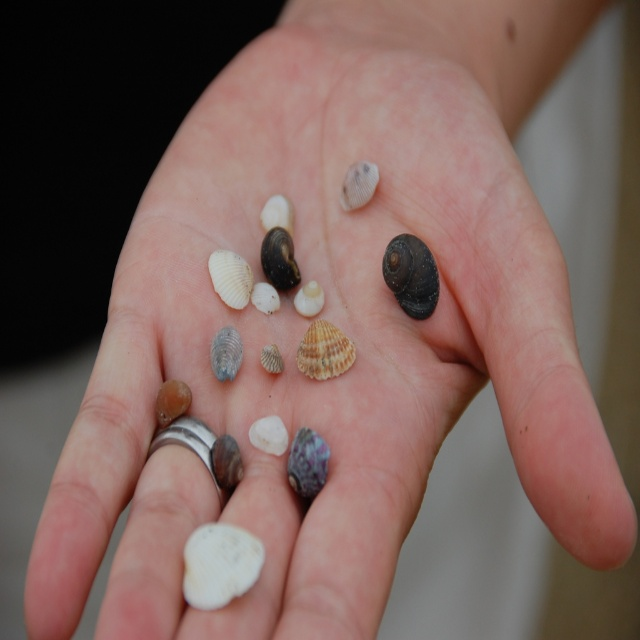Snail: (379, 232, 441, 322), (288, 423, 333, 503), (262, 227, 300, 299), (213, 433, 246, 491)
